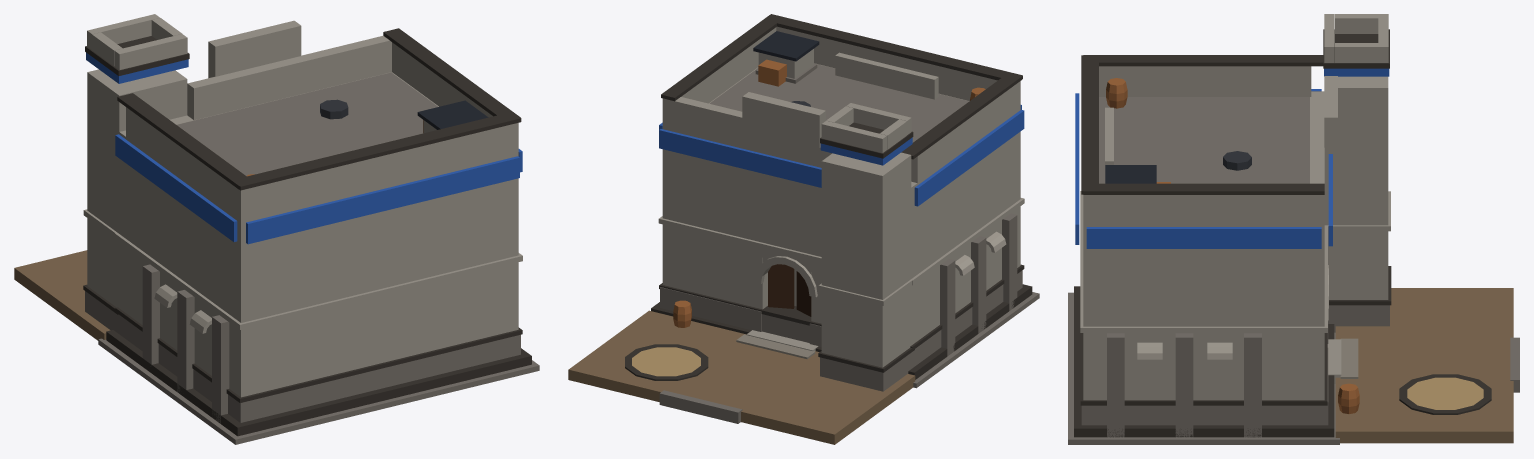
3 views of the same model, side by side, from view 1: azimuth 30°, elevation 25°; view 2: azimuth 150°, elevation 25°; view 3: azimuth 270°, elevation 25° (orthographic). The views are drawn at different scales.
Visible parts, largest first — view 1: BR-主体, BR-team; view 2: BR-主体, BR-team; view 3: BR-主体, BR-team.
Part boxes in pixels (x1,y1,x2,y2): BR-主体: [14, 14, 539, 444]; BR-team: [86, 52, 522, 244]; BR-主体: [568, 14, 1039, 444]; BR-team: [659, 105, 1024, 206]; BR-主体: [1068, 14, 1519, 444]; BR-team: [1075, 68, 1389, 248].
Bounding box in the file's own units: 10.96 × 10.08 × 14.22.
3 materials, 1 textured.
